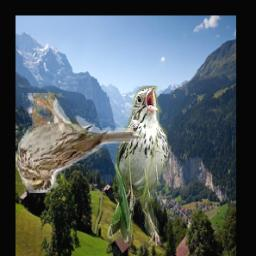Sparrow: (16, 94, 145, 194), (108, 87, 169, 247)
